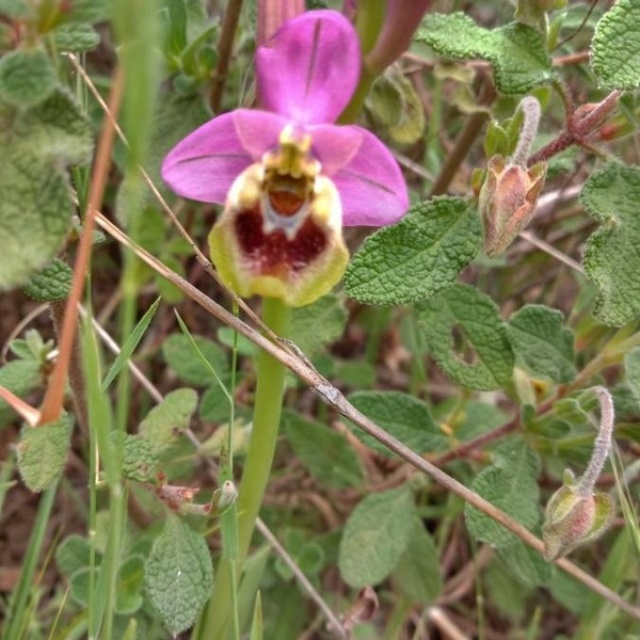obstacle: (384, 171, 561, 541)
